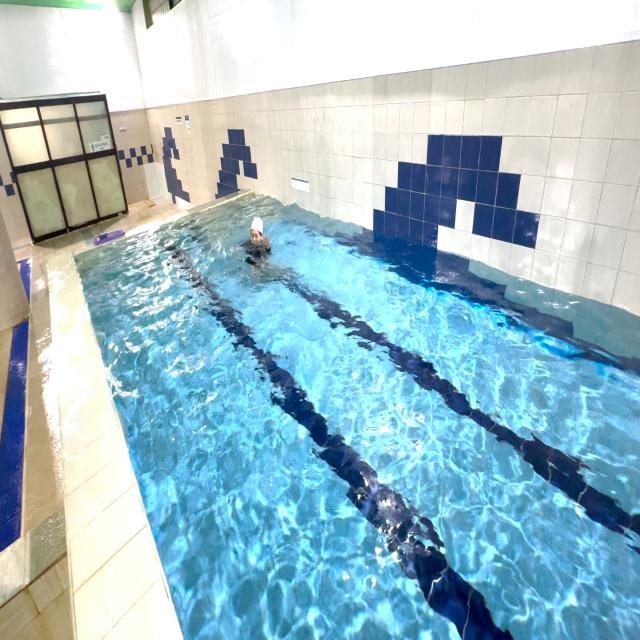Drowning: (234, 210, 279, 272)
